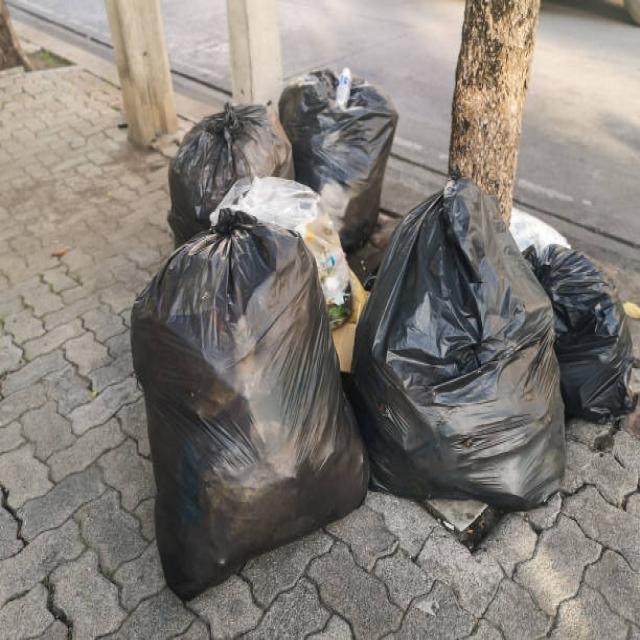garbage: (121, 69, 640, 603)
